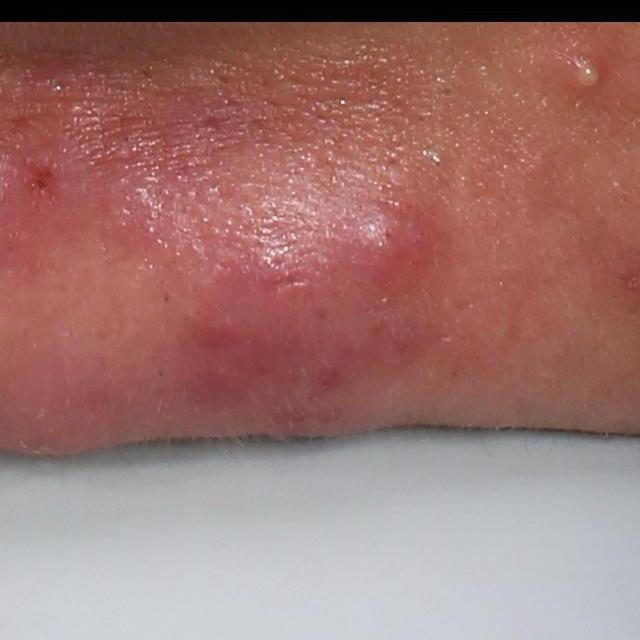comedo: (435, 80, 457, 103)
pustule: (554, 31, 620, 98)
